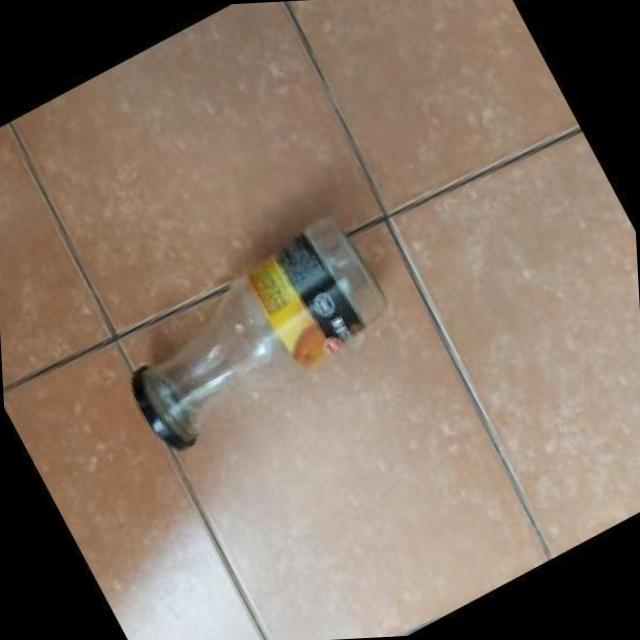BotolKaca: (122, 212, 398, 456)
